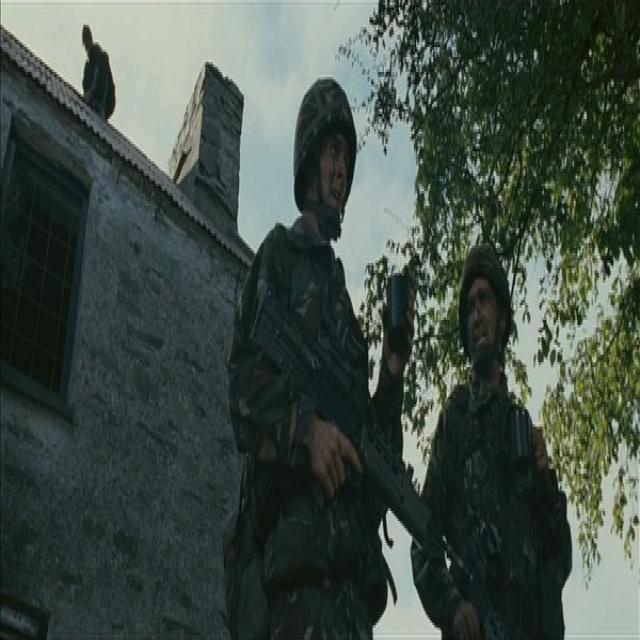rifle: (251, 282, 483, 604)
